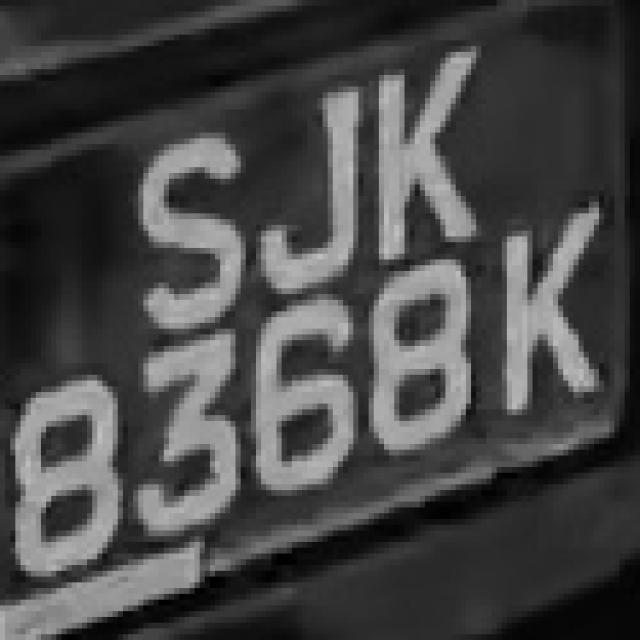3: (117, 323, 240, 542)
6: (251, 306, 358, 502)
8: (343, 236, 492, 502), (10, 352, 138, 611)
J: (245, 52, 364, 294)
K: (486, 196, 614, 432), (374, 46, 476, 260)
S: (118, 121, 246, 334)
